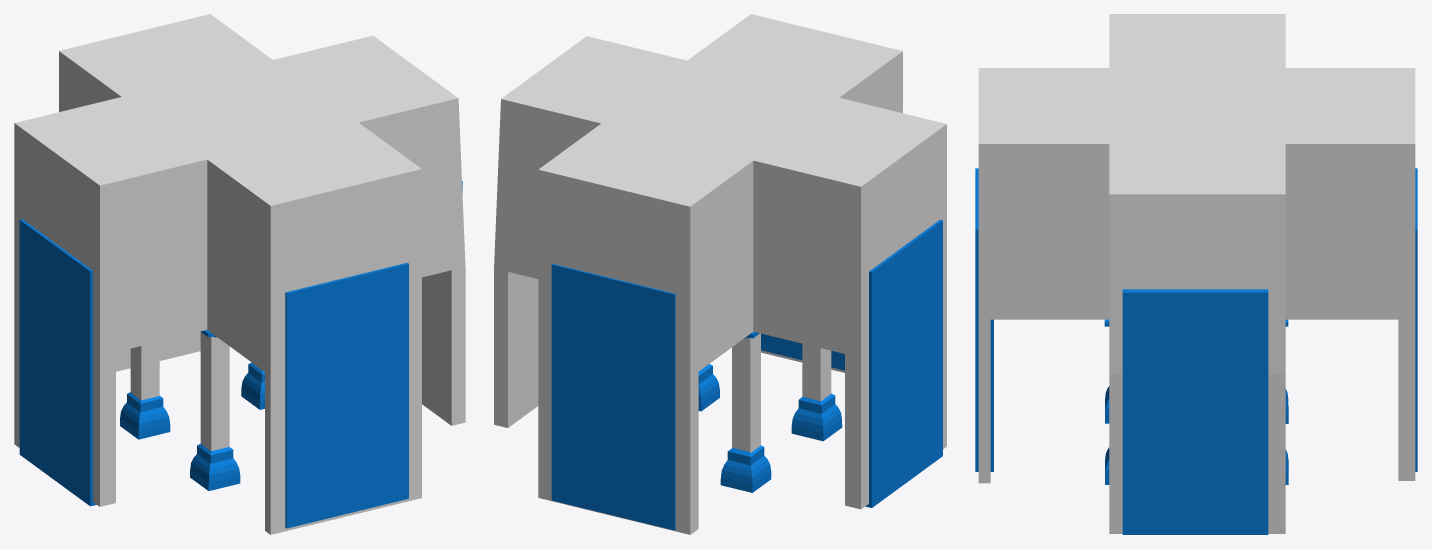
File: Sentral.gltf
3 renders of one model, left to right at view 1: azimuth 30°, elevation 25°; view 2: azimuth 150°, elevation 25°; view 3: azimuth 270°, elevation 25°, orthographic. The views are drawn at different scales.
Parts seen in each view (by area): view 1: COL, Pedestal, COL.004, COL.003; view 2: COL, Pedestal, COL.003, COL.004; view 3: COL, Pedestal.
Part boxes in pixels (<box>): COL: <box>14,14,465,534</box>; Pedestal: <box>19,181,462,528</box>; COL.004: <box>200,332,229,451</box>; COL.003: <box>130,341,159,400</box>; COL: <box>494,14,946,534</box>; Pedestal: <box>551,219,942,530</box>; COL.003: <box>732,333,760,452</box>; COL.004: <box>802,343,831,400</box>; COL: <box>978,14,1415,533</box>; Pedestal: <box>975,168,1417,534</box>.
Bounding box in the file's own units: 47.52 × 40.27 × 47.44.
